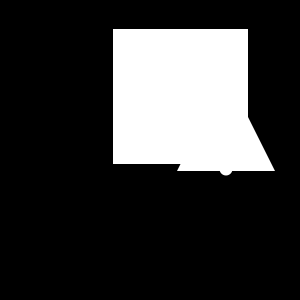circle: (113, 29, 248, 164)
rectangle: (220, 163, 232, 176)
triangle: (177, 73, 275, 171), (130, 68, 223, 161), (161, 39, 225, 103)
